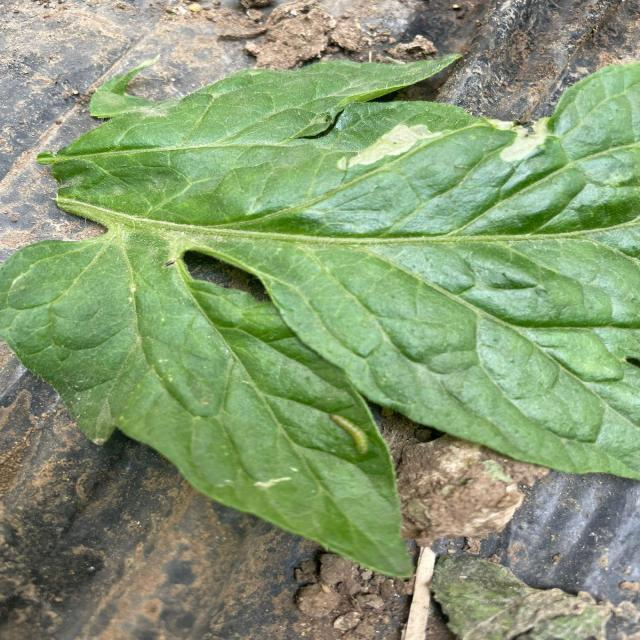Tuta absoluta: (340, 110, 444, 174), (491, 108, 557, 169)
